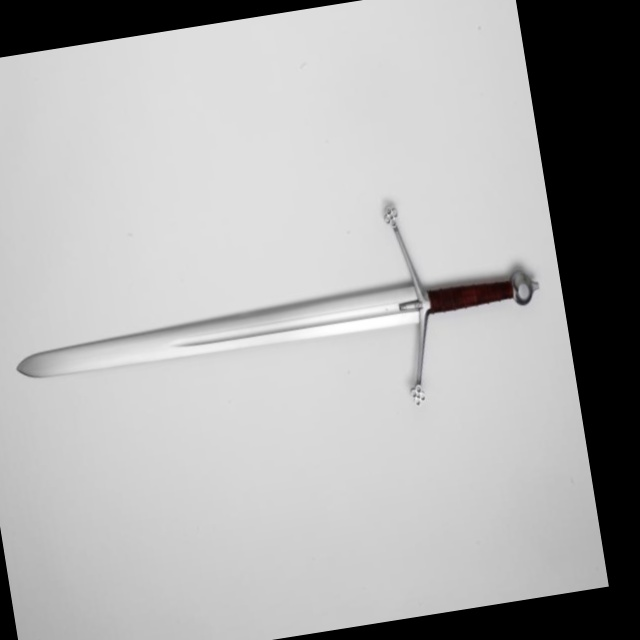Sharp-Object: (4, 245, 557, 401)
